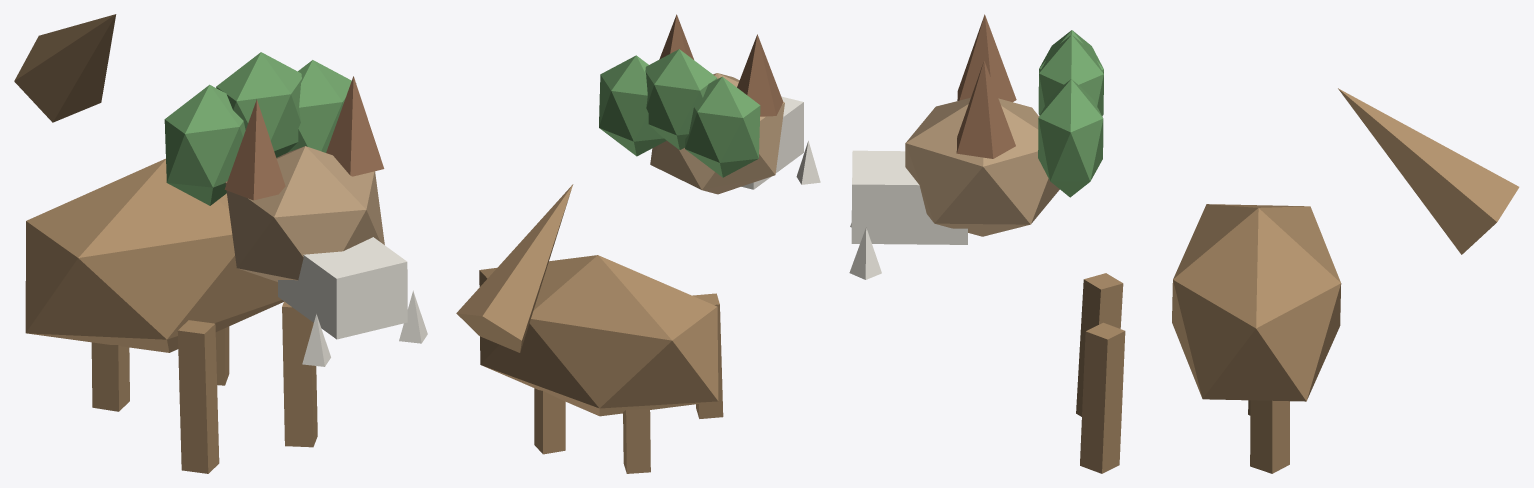
File: npcpose_wolf_idle_10.glb
3 views of the same model, side by side, from view 1: azimuth 30°, elevation 25°; view 2: azimuth 150°, elevation 25°; view 3: azimuth 270°, elevation 25° (orthographic). The views are drawn at different scales.
Visible parts, largest first — view 1: npcpose; view 2: npcpose; view 3: npcpose.
Boxes of the visible parts, x1,y1,x2,y2 form: npcpose: (14, 14, 427, 473); npcpose: (456, 14, 820, 473); npcpose: (849, 14, 1519, 473).
Size of the model in its own units: 0.8873 by 1.23 by 1.84.
